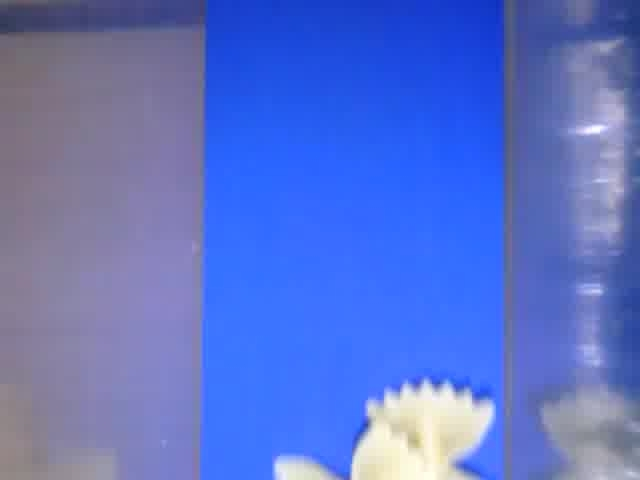farfalle: (365, 378, 494, 480), (274, 423, 429, 480)
